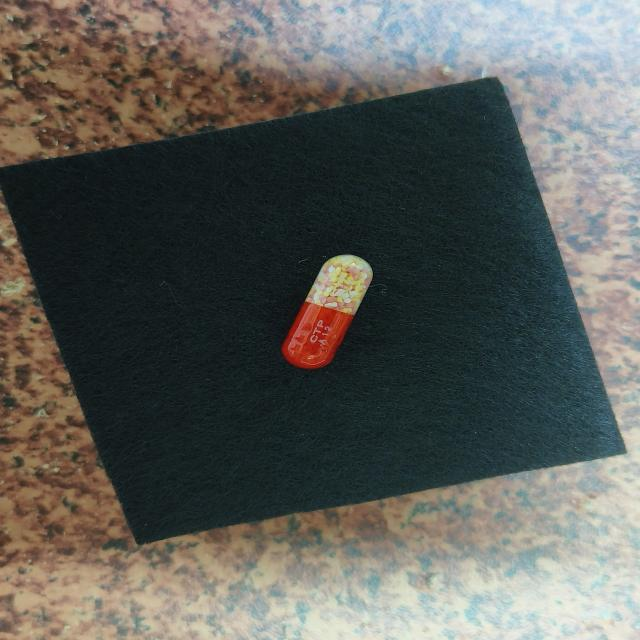Intact Capsule: (282, 255, 373, 368)
